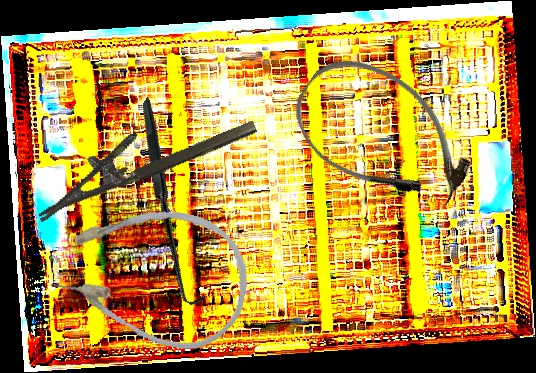Cannula: (277, 37, 490, 233), (45, 189, 259, 360)
Hook Surgical: (69, 96, 276, 309)
Needle Holder: (23, 89, 259, 223)
